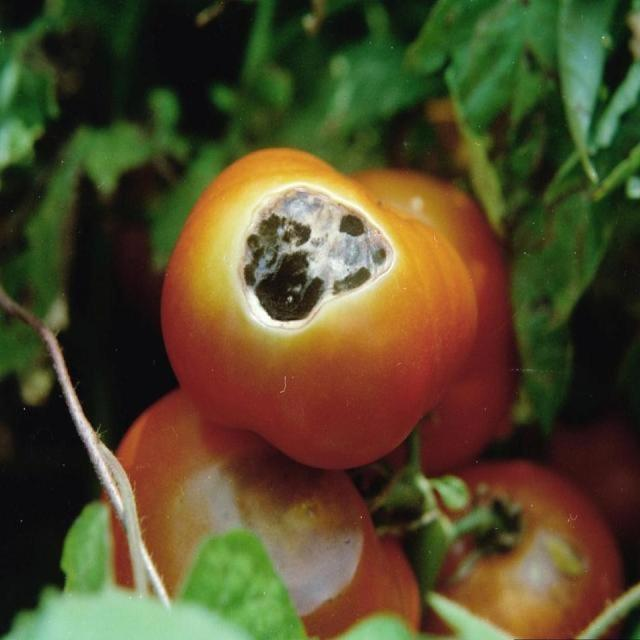Blossom End Rot Fruit: (150, 113, 277, 238)
